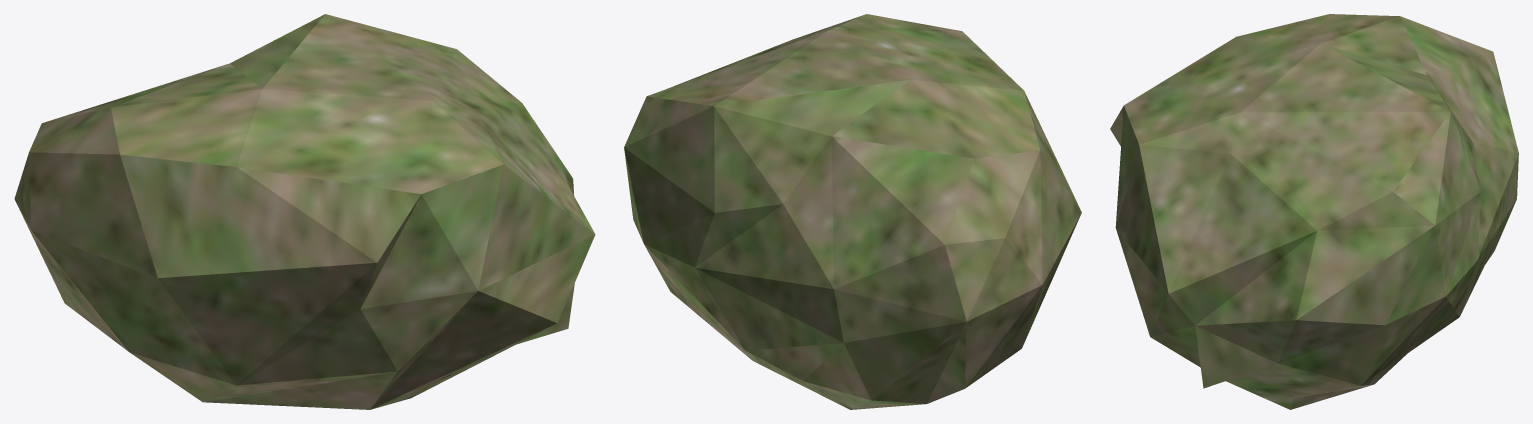
File: ground_chunk001.fbx
3 renders of one model, left to right at view 1: azimuth 30°, elevation 25°; view 2: azimuth 150°, elevation 25°; view 3: azimuth 270°, elevation 25°, orthographic. The views are drawn at different scales.
Visible parts, largest first — view 1: Icosphere; view 2: Icosphere; view 3: Icosphere.
Boxes of the visible parts, <box> form: Icosphere: <box>14,14,595,409</box>; Icosphere: <box>624,14,1081,409</box>; Icosphere: <box>1110,14,1518,409</box>.
Size of the model in its own units: 1018 by 666 by 806.
